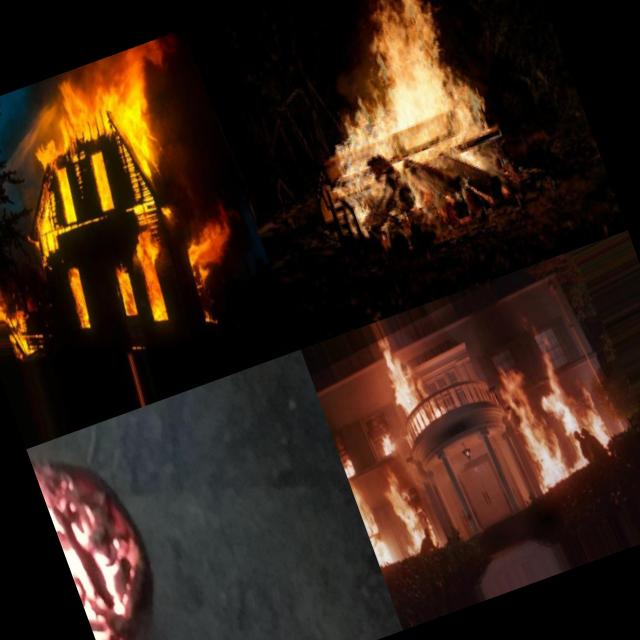fire: (269, 0, 523, 250), (18, 54, 174, 206), (34, 453, 152, 640), (522, 319, 614, 462), (492, 362, 574, 494), (375, 336, 453, 446), (121, 225, 187, 336), (173, 206, 250, 292), (382, 466, 440, 556), (349, 475, 397, 569), (16, 190, 74, 267), (58, 252, 104, 340), (44, 258, 84, 328), (371, 420, 404, 466), (334, 436, 361, 481)
smoke: (466, 302, 532, 378), (504, 273, 564, 336)
